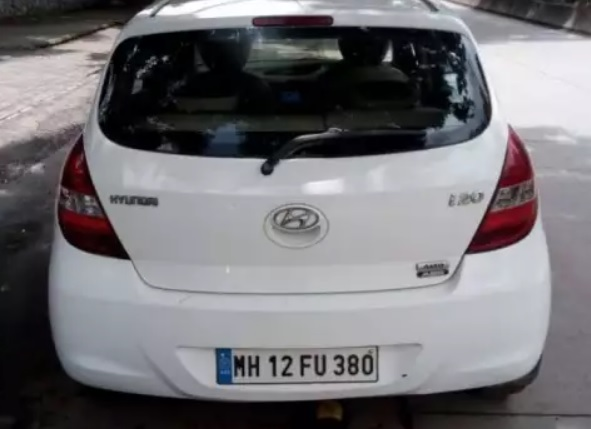licenseplate: (212, 344, 381, 383)
